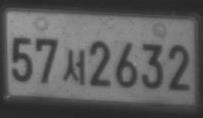2: (89, 39, 112, 87), (168, 44, 191, 92)
3: (141, 43, 165, 89)
5: (11, 37, 33, 82)
6: (116, 41, 138, 87)
7: (35, 37, 58, 83)
서: (62, 48, 85, 86)
